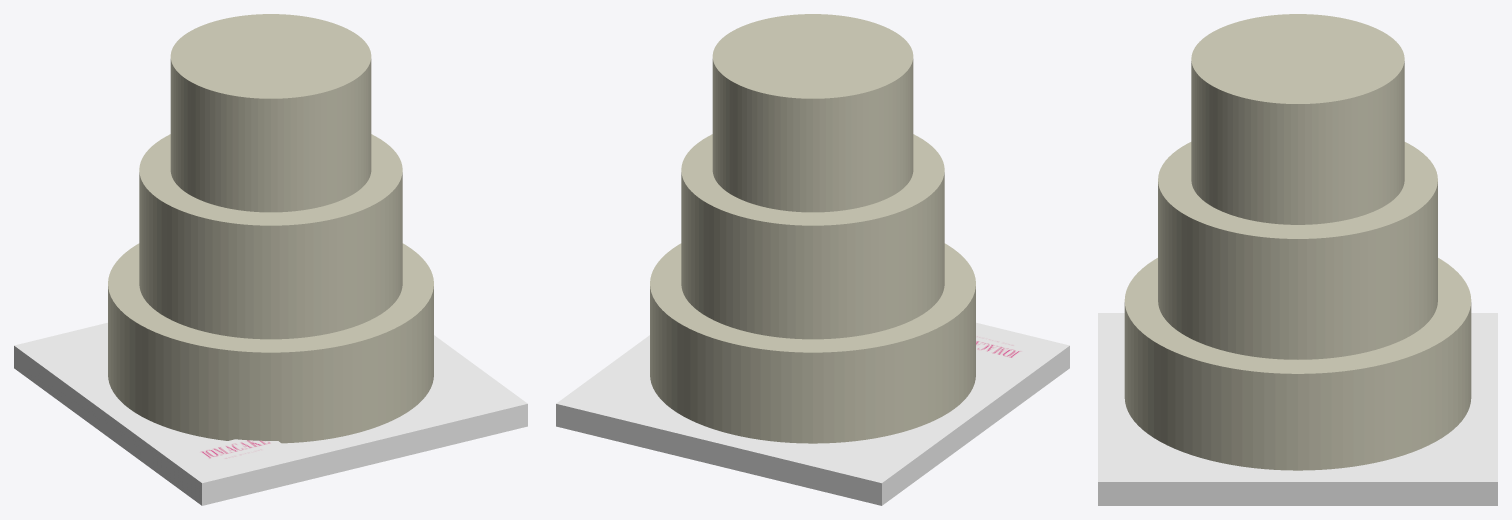
The model's file is cake_tier3_10-8-6_layers2_v42.glb.
The picture shows the model from 3 angles, left to right: view 1: azimuth 30°, elevation 25°; view 2: azimuth 150°, elevation 25°; view 3: azimuth 270°, elevation 25°; orthographic projection. The views are drawn at different scales.
Visible parts, largest first — view 1: Tier0, Tier1, Tier2, Board, Logo; view 2: Tier0, Tier1, Tier2, Board, Logo; view 3: Tier0, Tier1, Tier2, Board.
Part boxes in pixels (x1,y1,x2,y2): Tier0: (108, 243, 433, 443); Tier1: (139, 134, 402, 339); Tier2: (170, 14, 371, 212); Board: (14, 322, 527, 505); Logo: (188, 439, 288, 467); Tier0: (650, 243, 975, 443); Tier1: (681, 134, 944, 339); Tier2: (712, 14, 913, 212); Board: (556, 322, 1069, 505); Logo: (976, 331, 1038, 362); Tier0: (1124, 258, 1471, 470); Tier1: (1158, 142, 1437, 359); Tier2: (1191, 14, 1404, 224); Board: (1098, 313, 1497, 505).
Size of the model in its own units: 0.3 by 0.3 by 0.3.
